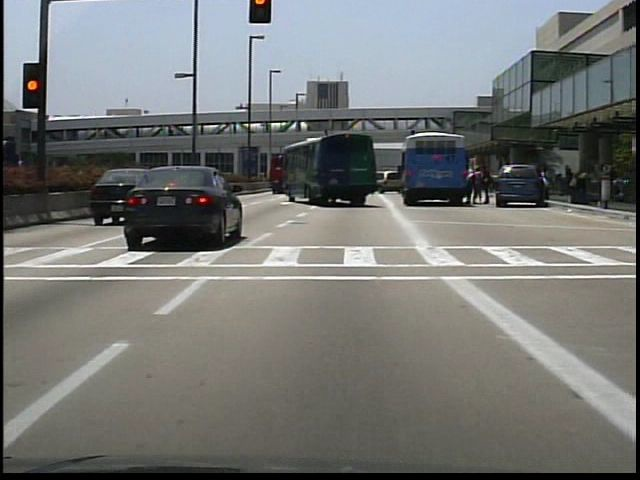person: (467, 162, 482, 205), (479, 164, 492, 208), (538, 167, 551, 206)
